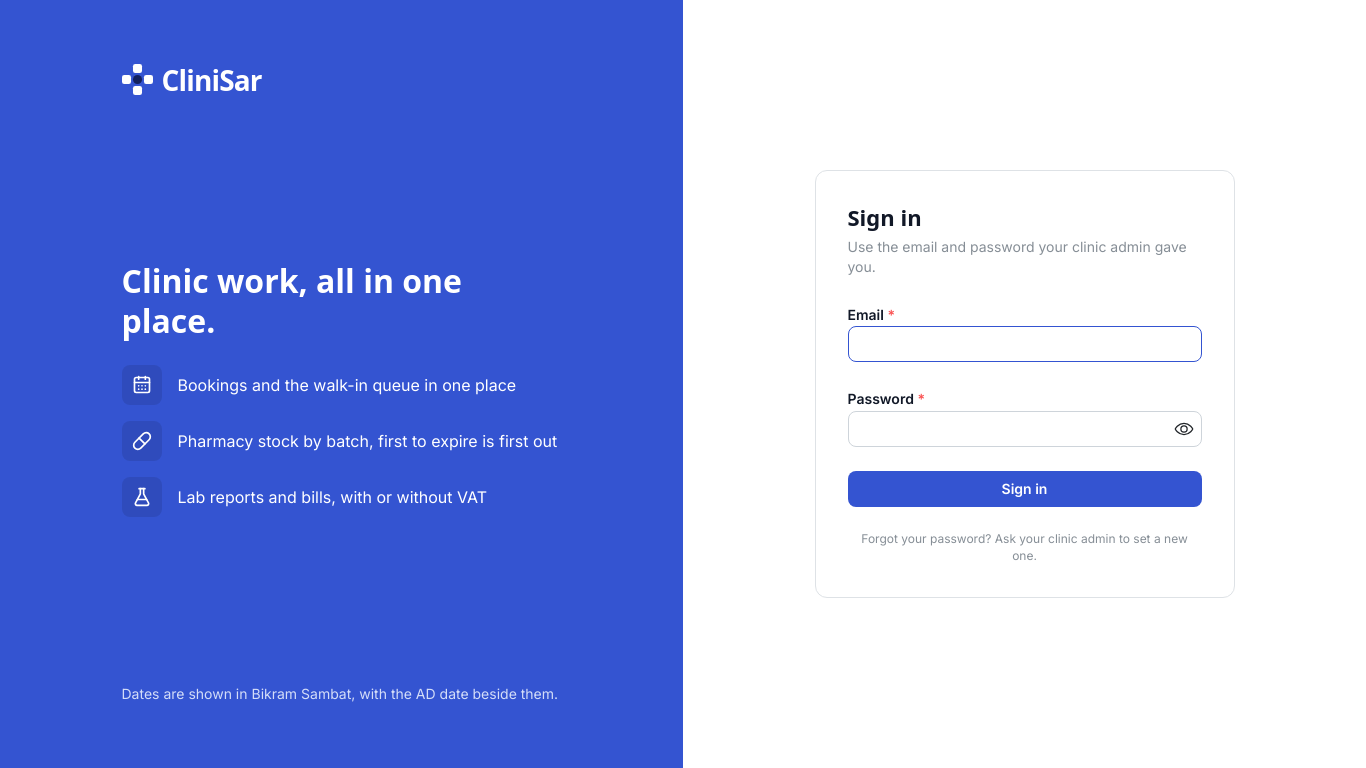
Scenario: LoginPage › shows the server message when the password is wrong
Type "sita@clinic.test" into the field labelled "Email *" at (1024, 344), box [848,326,1202,362]
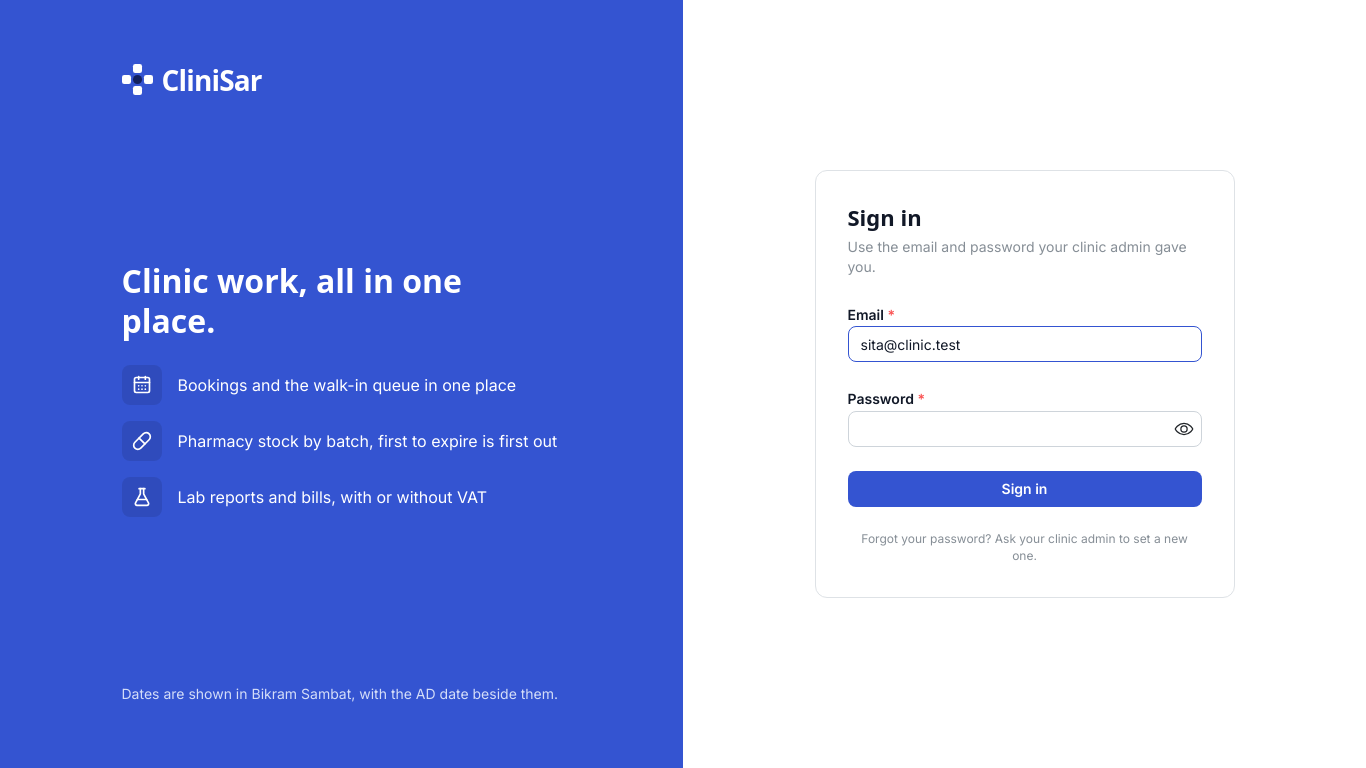
Type "wrong-pass" into the password field labelled "Password *" at (1024, 429), box [848,412,1200,446]
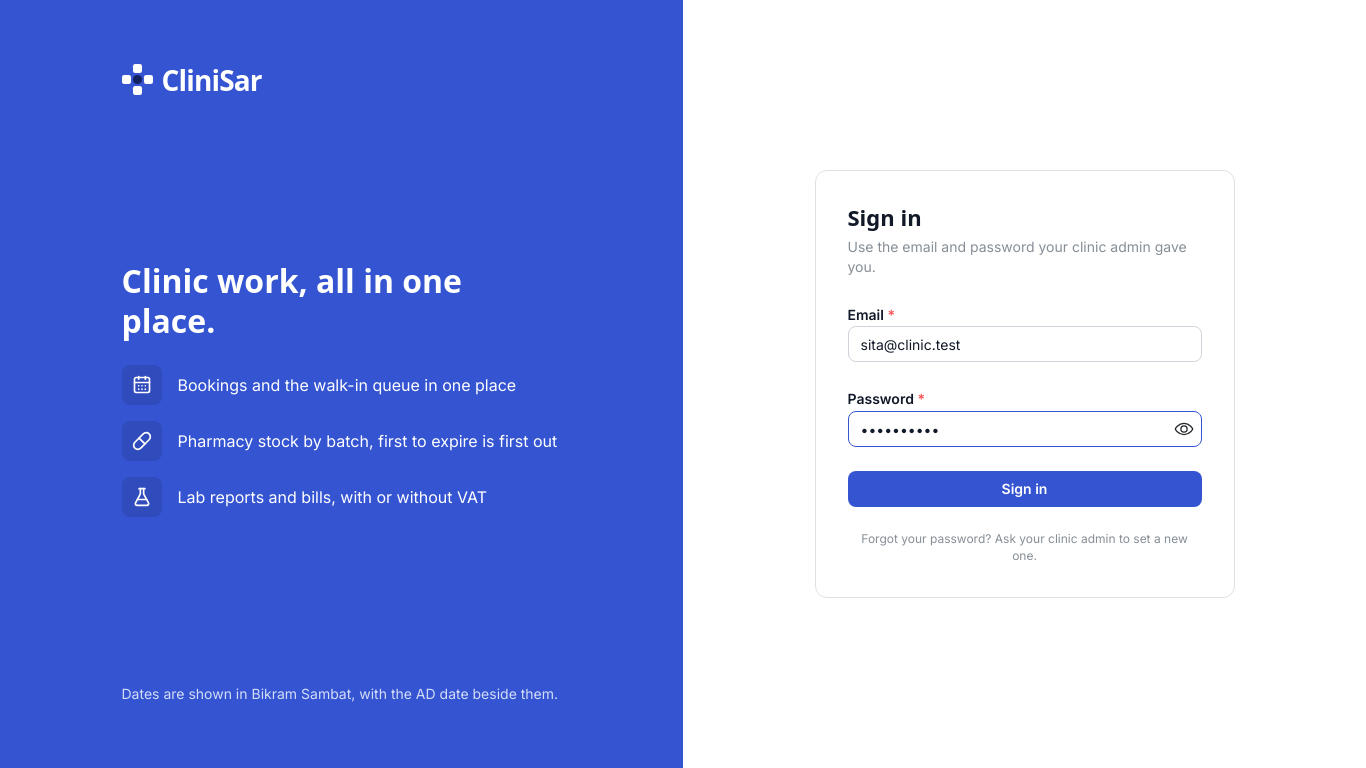
Click the button "Sign in" at (1024, 489), box [848,471,1202,507]
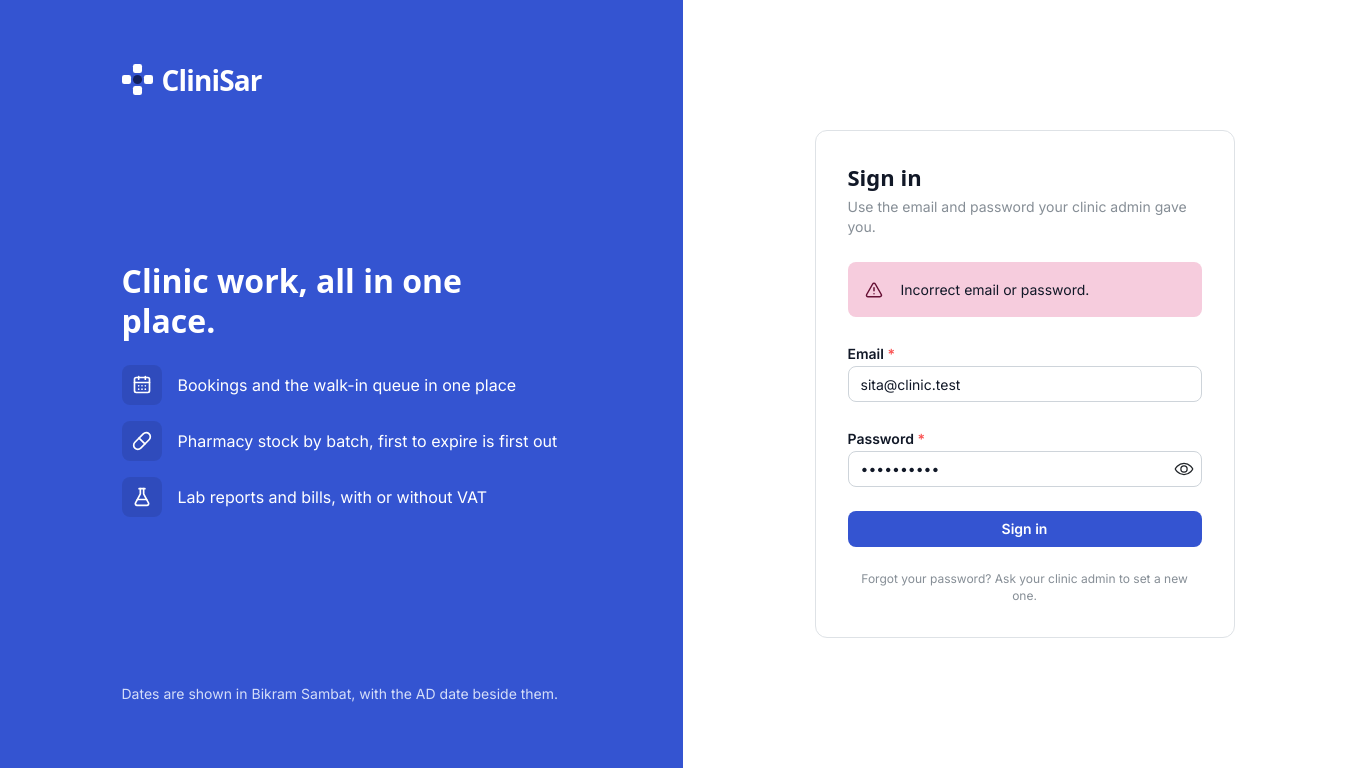
Check: the message reads "Incorrect email or password.", box [900,281,1089,298]
